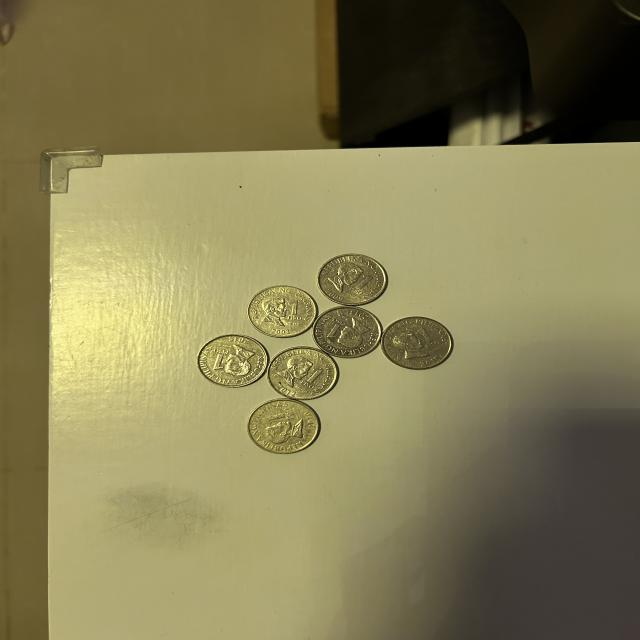1_Old_Front: (261, 410, 298, 429), (209, 346, 231, 376), (300, 366, 328, 389), (350, 272, 375, 297), (285, 300, 310, 325), (324, 315, 346, 343)
